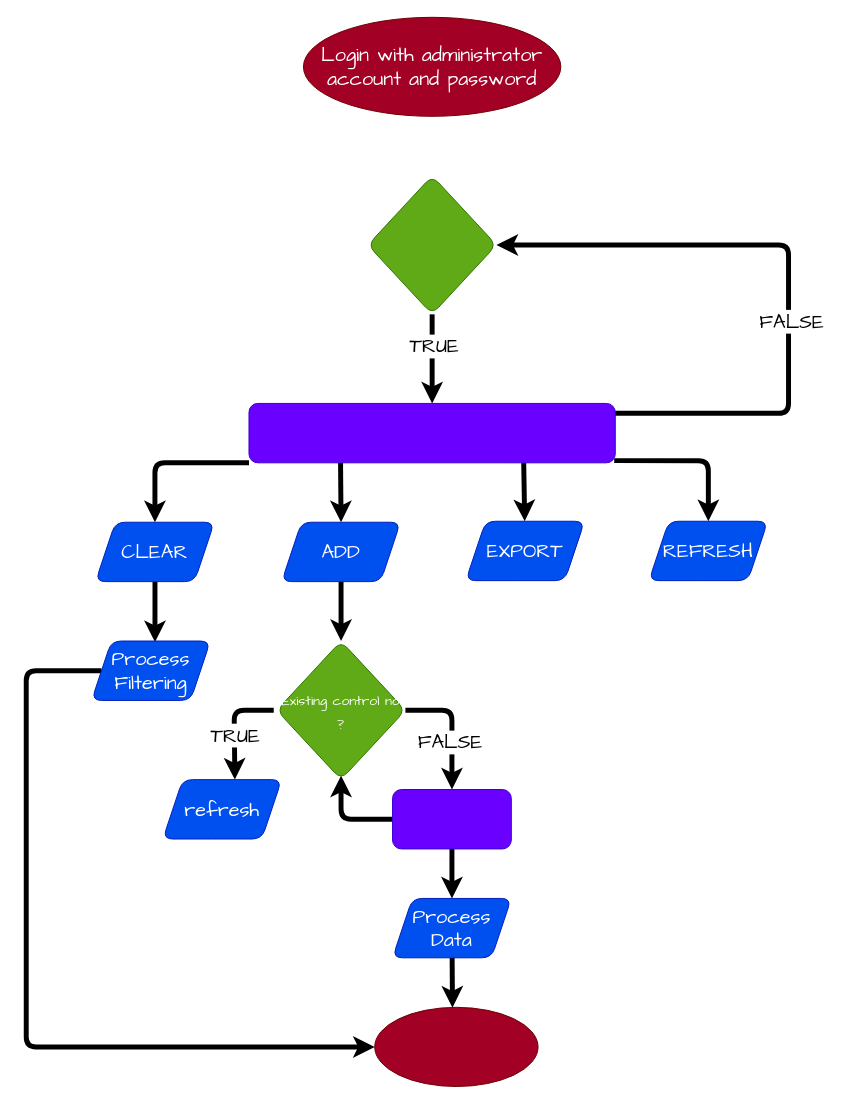
Image size: 841x1104. Some labels were removed from this diagram. Each missing label, with the centre of its shape:
Create new record: point 451,819
END: point 456,1046
Operate: point 431,432
Verifed: point 431,244
